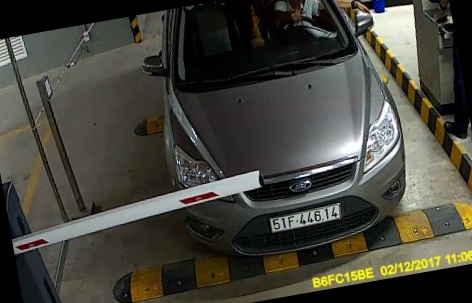plate: (266, 204, 351, 237)
